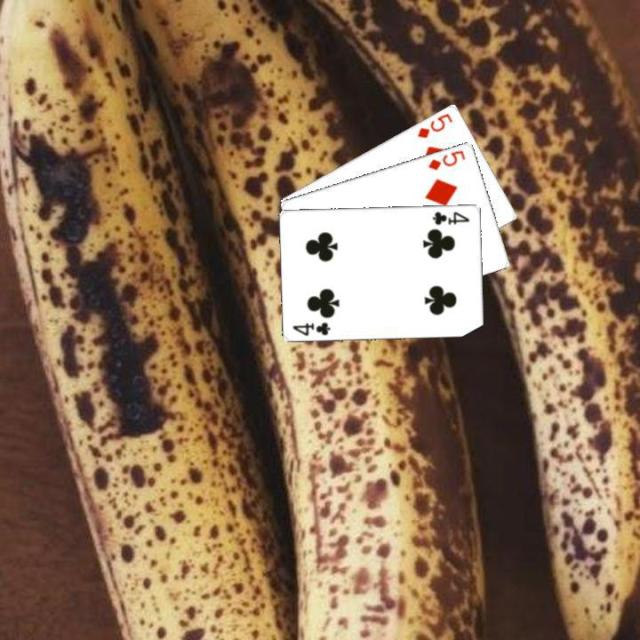4C: (289, 317, 332, 338), (429, 207, 471, 227)
5D: (414, 110, 454, 140), (424, 146, 468, 172)
